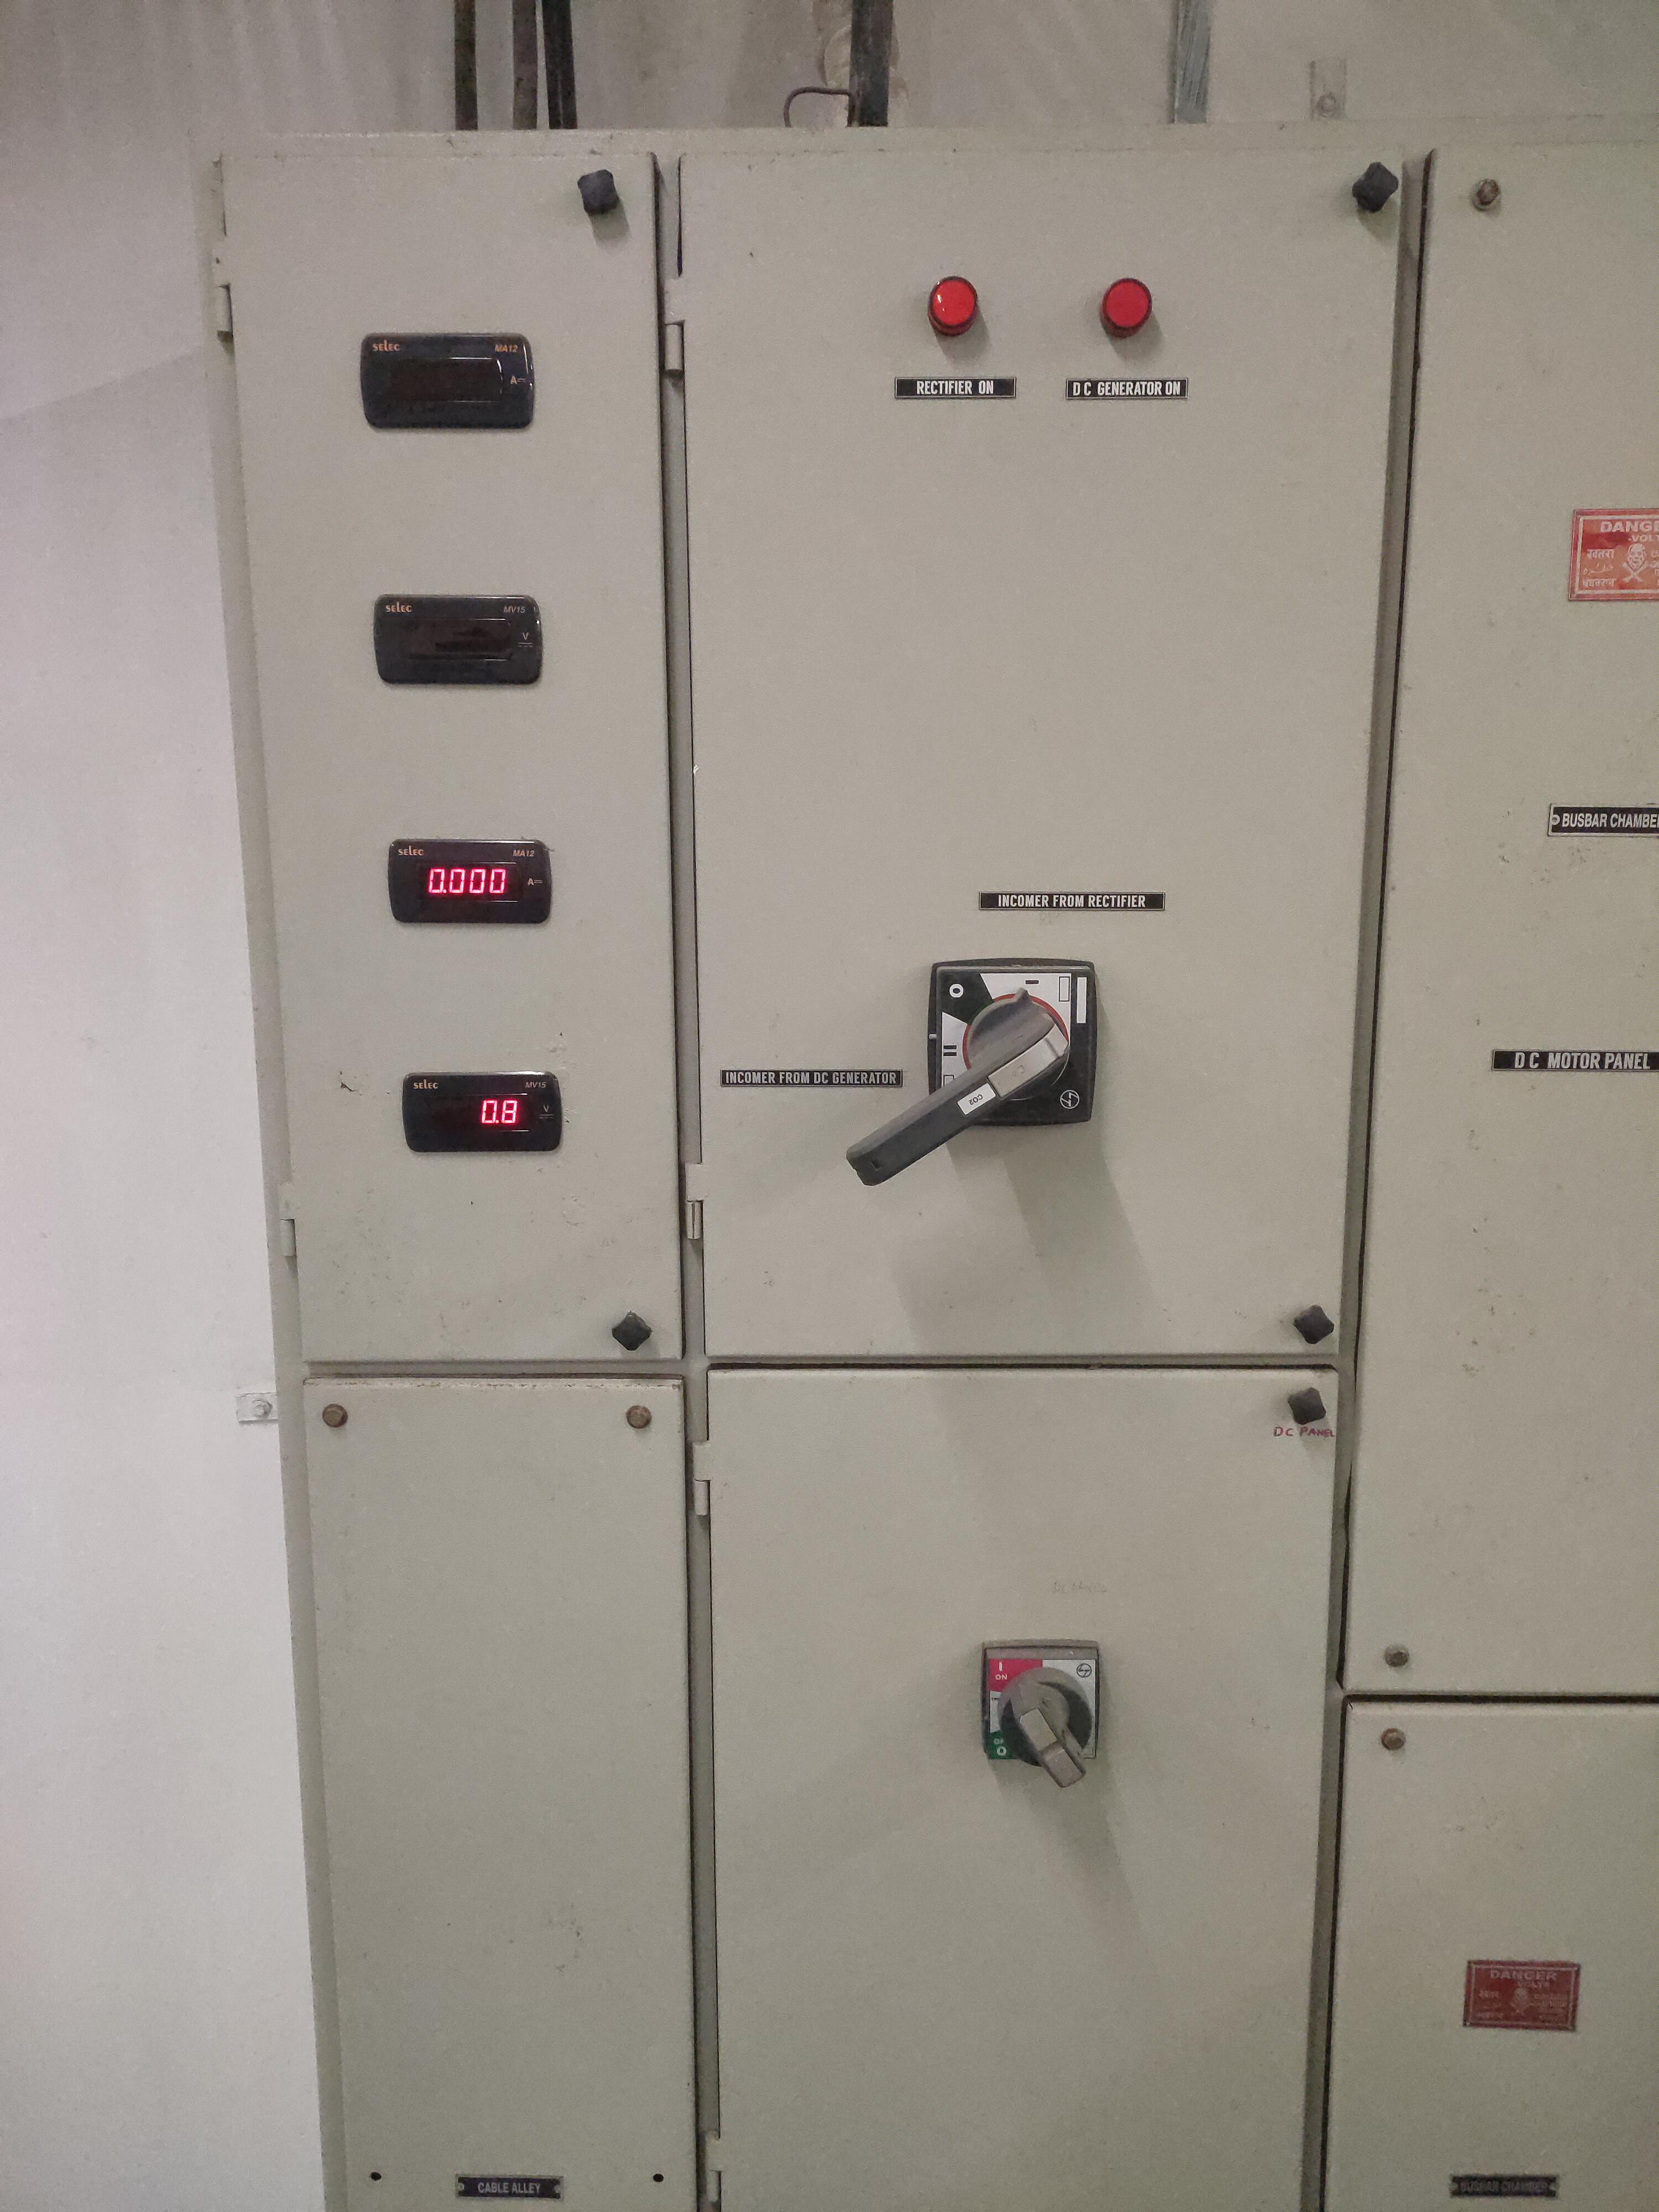Knob 1: (781, 930, 1124, 1204)
Knob 2: (936, 1595, 1121, 1811)
Light Indications: (882, 247, 1204, 432)
